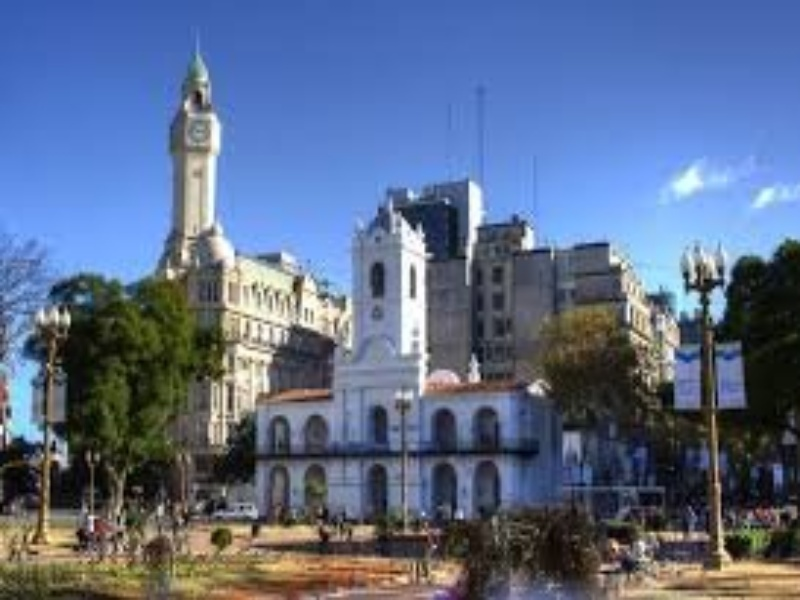cabildo: (252, 195, 547, 531)
